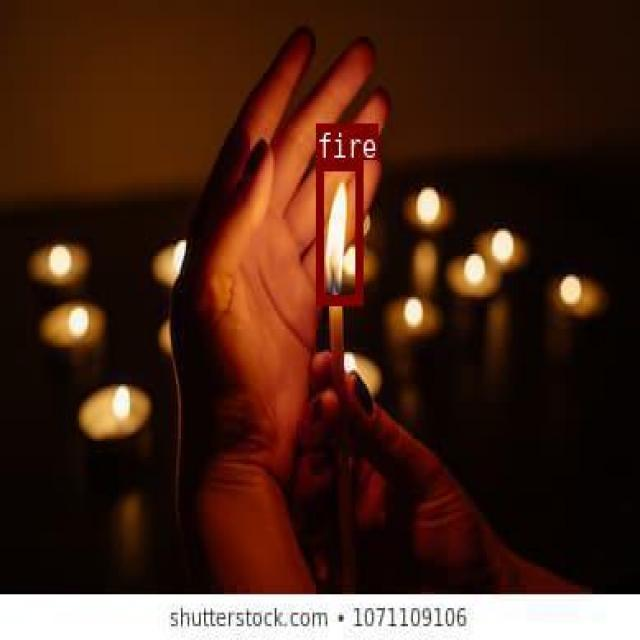fire: (316, 160, 362, 302)
